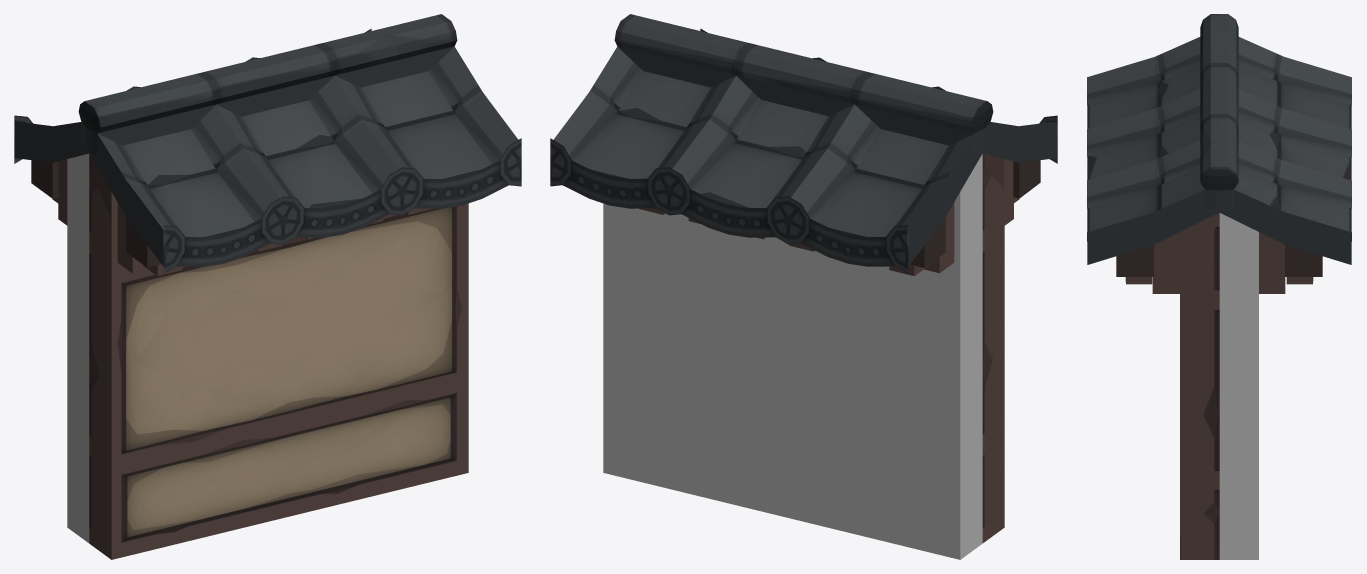
File: SM_Bld_Fence_Dobei_01.fbx
3 renders of one model, left to right at view 1: azimuth 30°, elevation 25°; view 2: azimuth 150°, elevation 25°; view 3: azimuth 270°, elevation 25°, orthographic. The views are drawn at different scales.
Parts seen in each view (by area): view 1: SM_Bld_Fence_Dobei_01; view 2: SM_Bld_Fence_Dobei_01; view 3: SM_Bld_Fence_Dobei_01.
Boxes of the visible parts, x1,y1,x2,y2 form: SM_Bld_Fence_Dobei_01: (14,14,521,559); SM_Bld_Fence_Dobei_01: (550,14,1057,559); SM_Bld_Fence_Dobei_01: (1087,14,1351,559).
Bounding box in the file's own units: 254 × 294 × 182.
